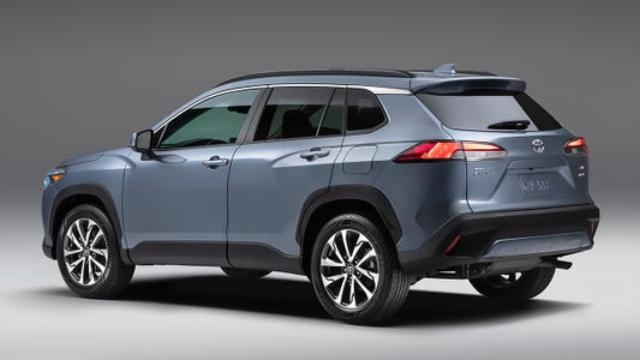toyota: (41, 62, 602, 324), (600, 341, 606, 343)
